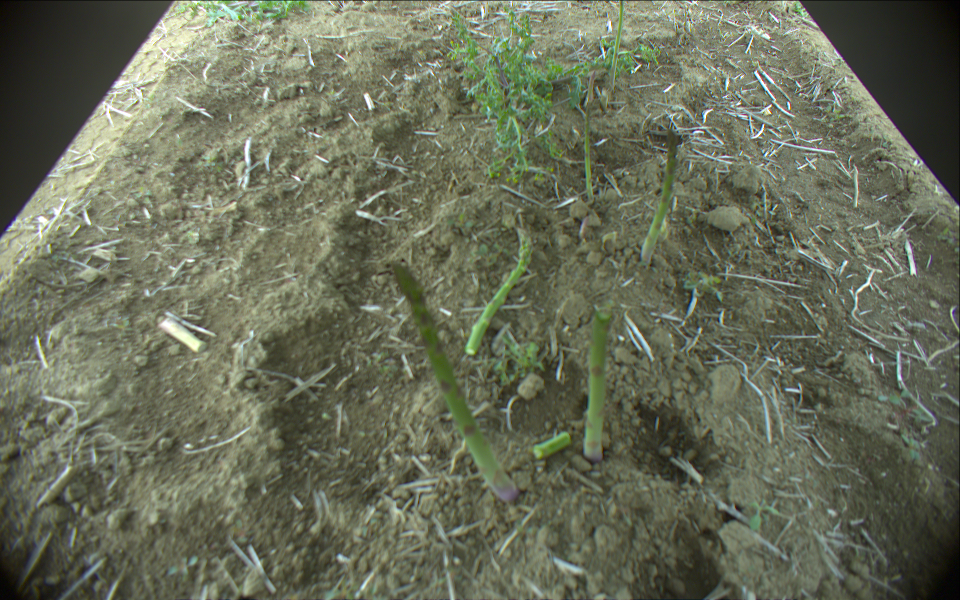aspa: (390, 265, 518, 505), (463, 222, 534, 355), (638, 130, 682, 266), (583, 304, 610, 460), (581, 66, 596, 199), (160, 317, 206, 356), (607, 1, 627, 88), (531, 429, 570, 462)
